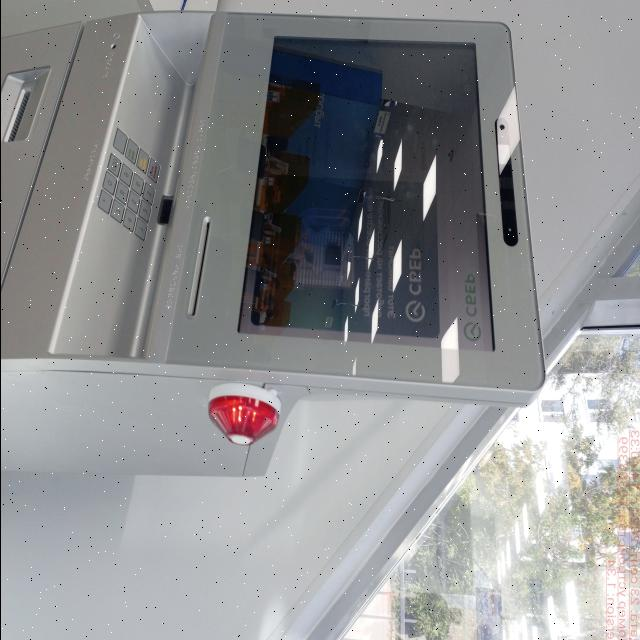bank: (0, 1, 555, 476)
